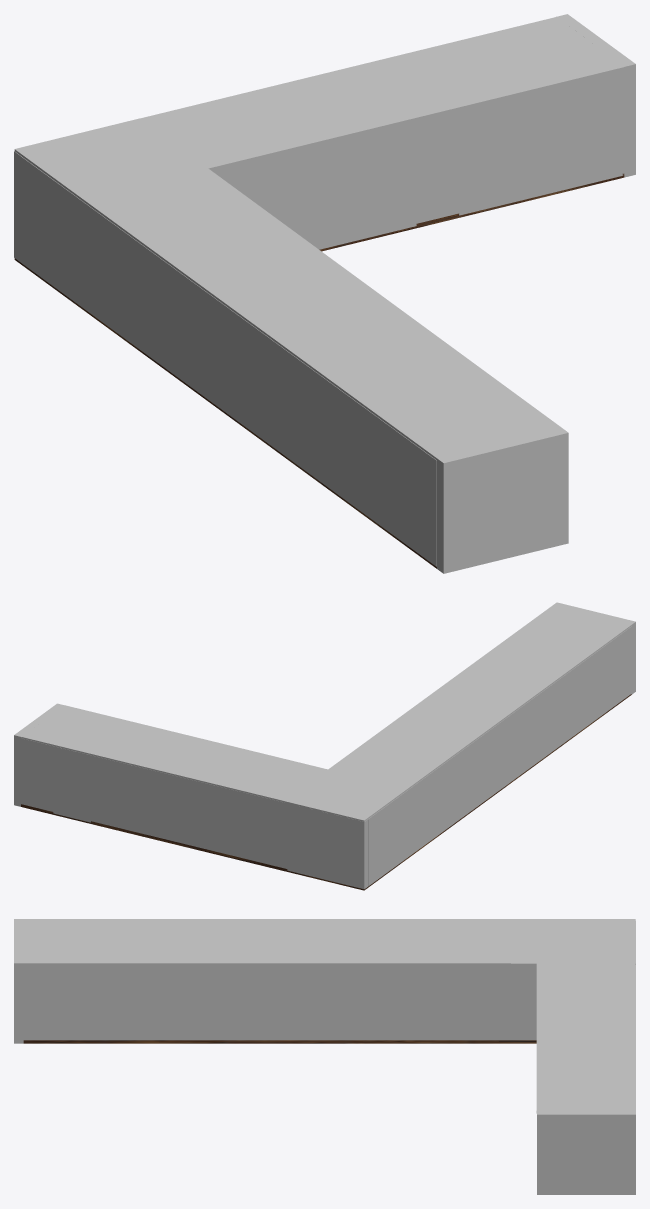
File: SegundoNivel.fbx
3 renders of one model, top to bottom at view 1: azimuth 30°, elevation 25°; view 2: azimuth 150°, elevation 25°; view 3: azimuth 270°, elevation 25°, orthographic. The views are drawn at different scales.
Parts seen in each view (by area): view 1: pCube50, pCube55, pCube57, pCube51, pCube4, pCube52, pCube2, pCube29; view 2: pCube56, pCube50, pCube55, pCube51, pCube29, pCube52, pCube4, pCube2; view 3: pCube53, pCube50, pCube51, pCube52, pCube2, pCube4.
Part boxes in pixels (x1=…): pCube50: x1=14, y1=118, x2=561, y2=460; pCube55: x1=19, y1=155, x2=436, y2=566; pCube57: x1=213, y1=69, x2=624, y2=249; pCube51: x1=140, y1=17, x2=624, y2=171; pCube4: x1=437, y1=428, x2=568, y2=573; pCube52: x1=556, y1=14, x2=635, y2=177; pCube2: x1=14, y1=258, x2=436, y2=568; pCube29: x1=319, y1=173, x2=624, y2=251; pCube56: x1=21, y1=738, x2=367, y2=889; pCube50: x1=284, y1=605, x2=631, y2=821; pCube55: x1=368, y1=626, x2=631, y2=886; pCube51: x1=21, y1=705, x2=327, y2=802; pCube29: x1=21, y1=804, x2=284, y2=871; pCube52: x1=14, y1=703, x2=64, y2=806; pCube4: x1=553, y1=602, x2=635, y2=694; pCube2: x1=284, y1=694, x2=631, y2=890; pCube53: x1=23, y1=966, x2=536, y2=1040; pCube50: x1=23, y1=919, x2=635, y2=966; pCube51: x1=536, y1=963, x2=635, y2=1113; pCube52: x1=537, y1=1110, x2=635, y2=1194; pCube2: x1=23, y1=1040, x2=536, y2=1043; pCube4: x1=14, y1=919, x2=23, y2=1043.
Bounding box in the file's own units: 50.26 × 9.6 × 67.51.
